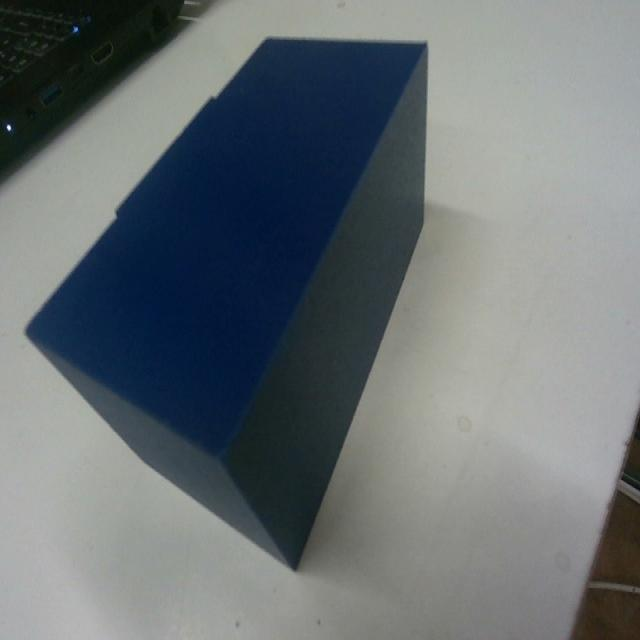Blue Cuboid: (23, 32, 430, 571)
